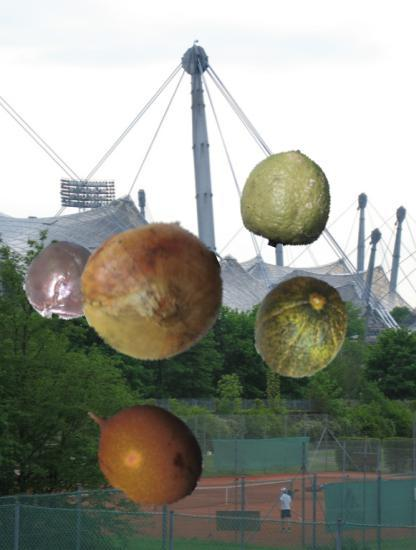Granadilla: (76, 385, 208, 517)
Limes: (238, 149, 338, 249)
Melon: (251, 275, 355, 379)
Onion: (81, 220, 226, 365)
Passion: (23, 237, 108, 322)
